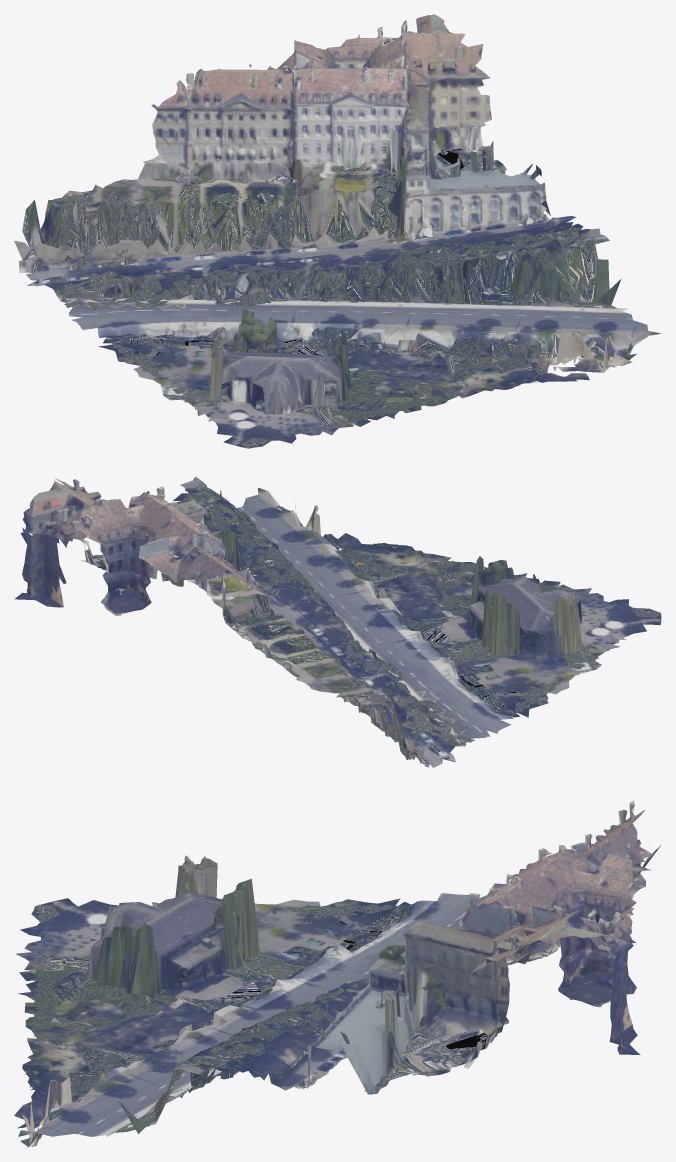
3 views of the same model, one above another, from view 1: azimuth 30°, elevation 25°; view 2: azimuth 150°, elevation 25°; view 3: azimuth 270°, elevation 25° (orthographic). The views are drawn at different scales.
Bounding box in the file's own units: 109 × 44.75 × 109.
Materials: 1 (1 with a texture image).
